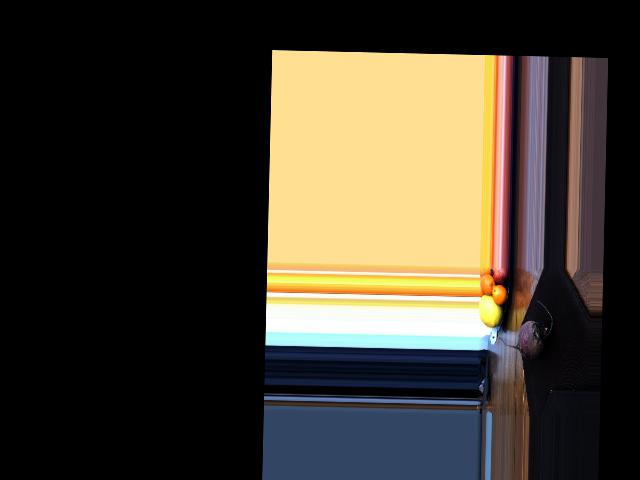beet: (500, 299, 553, 359)
